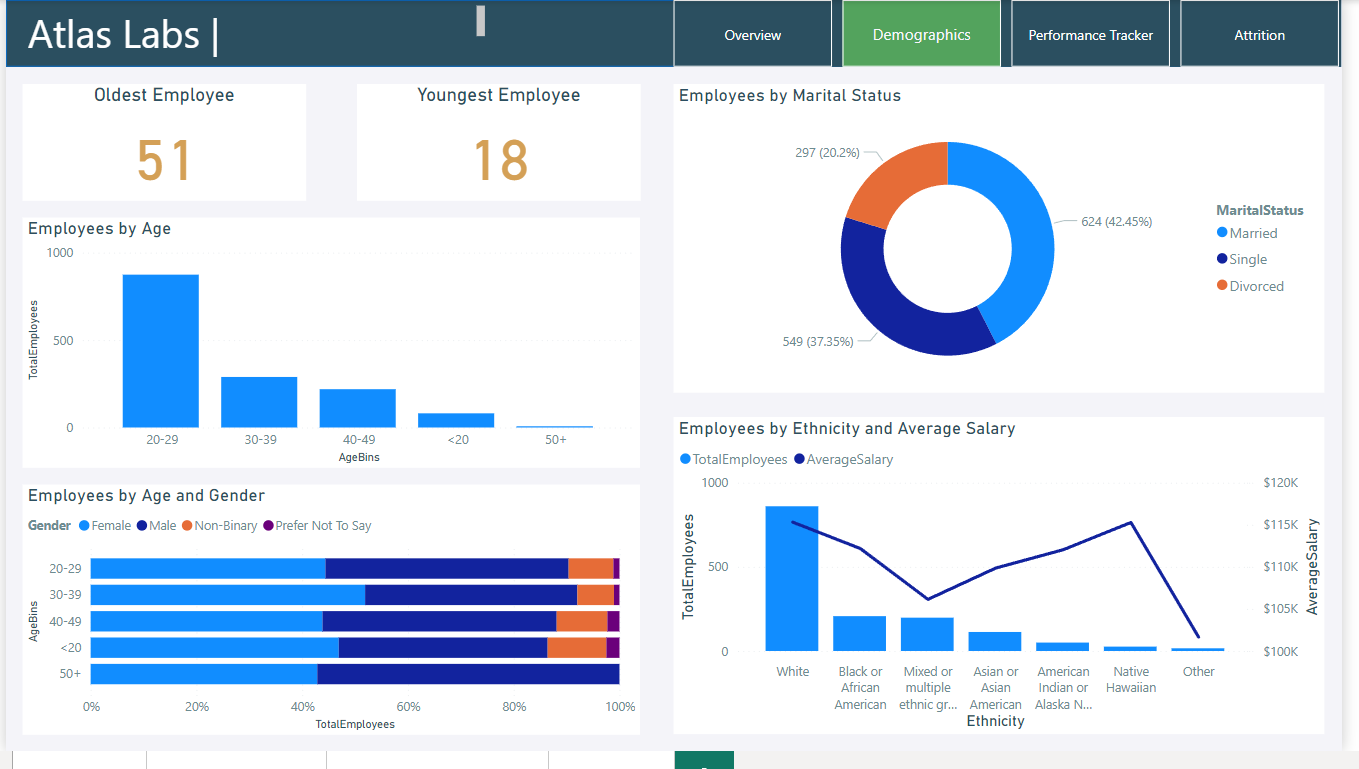

What the dashboard file says about the page in this screenshot:
{"tool":"powerbi","page":{"name":"Demographics","canvas":[1280,720],"ordinal":1},"visuals":[{"type":"card","title":"Youngest Employee","fields":{"Values":["_Measures.YoungestEmployee"]},"box":[336.7,80,271.7,111.7],"z":0},{"type":"card","title":"Oldest Employee","fields":{"Values":["_Measures.OldestEmployee"]},"box":[16,80,272,112],"z":1000},{"type":"columnChart","title":"Employees by Age","fields":{"Y":["_Measures.TotalEmployees"],"Category":["DimEmployee.AgeBins"]},"box":[16,208,591.7,240],"z":2000},{"type":"hundredPercentStackedBarChart","title":"Employees by Age and Gender","fields":{"Category":["DimEmployee.AgeBins"],"Y":["_Measures.TotalEmployees"],"Series":["DimEmployee.Gender"]},"box":[16,464,592,240],"z":3000},{"type":"donutChart","title":"Employees by Marital Status","fields":{"Category":["DimEmployee.MaritalStatus"],"Y":["_Measures.TotalEmployees"]},"box":[640,80,624,296],"z":4000},{"type":"lineClusteredColumnComboChart","title":"Employees by Ethnicity and Average Salary","fields":{"Category":["DimEmployee.Ethnicity"],"Y":["_Measures.TotalEmployees"],"Y2":["_Measures.AverageSalary"]},"box":[640,400,624,304],"z":5000},{"type":"shape","box":[0,0,1280,64],"z":6000},{"type":"textbox","box":[16,0,448,64],"z":7000},{"type":"pageNavigator","box":[640,0,640,64],"z":8000}]}

Visuals, with their boxes in screenshot pixels (x1, y1, x2, y2), scaled from the page's 1280x720 canvas onto the 1359x769 screenshot:
"Youngest Employee" card: 357/85/646/205
"Oldest Employee" card: 17/85/306/205
"Employees by Age" columnChart: 17/222/645/478
"Employees by Age and Gender" hundredPercentStackedBarChart: 17/496/646/752
"Employees by Marital Status" donutChart: 680/85/1342/402
"Employees by Ethnicity and Average Salary" lineClusteredColumnComboChart: 680/427/1342/752
shape: 0/0/1358/68
textbox: 17/0/493/68
pageNavigator: 680/0/1358/68
